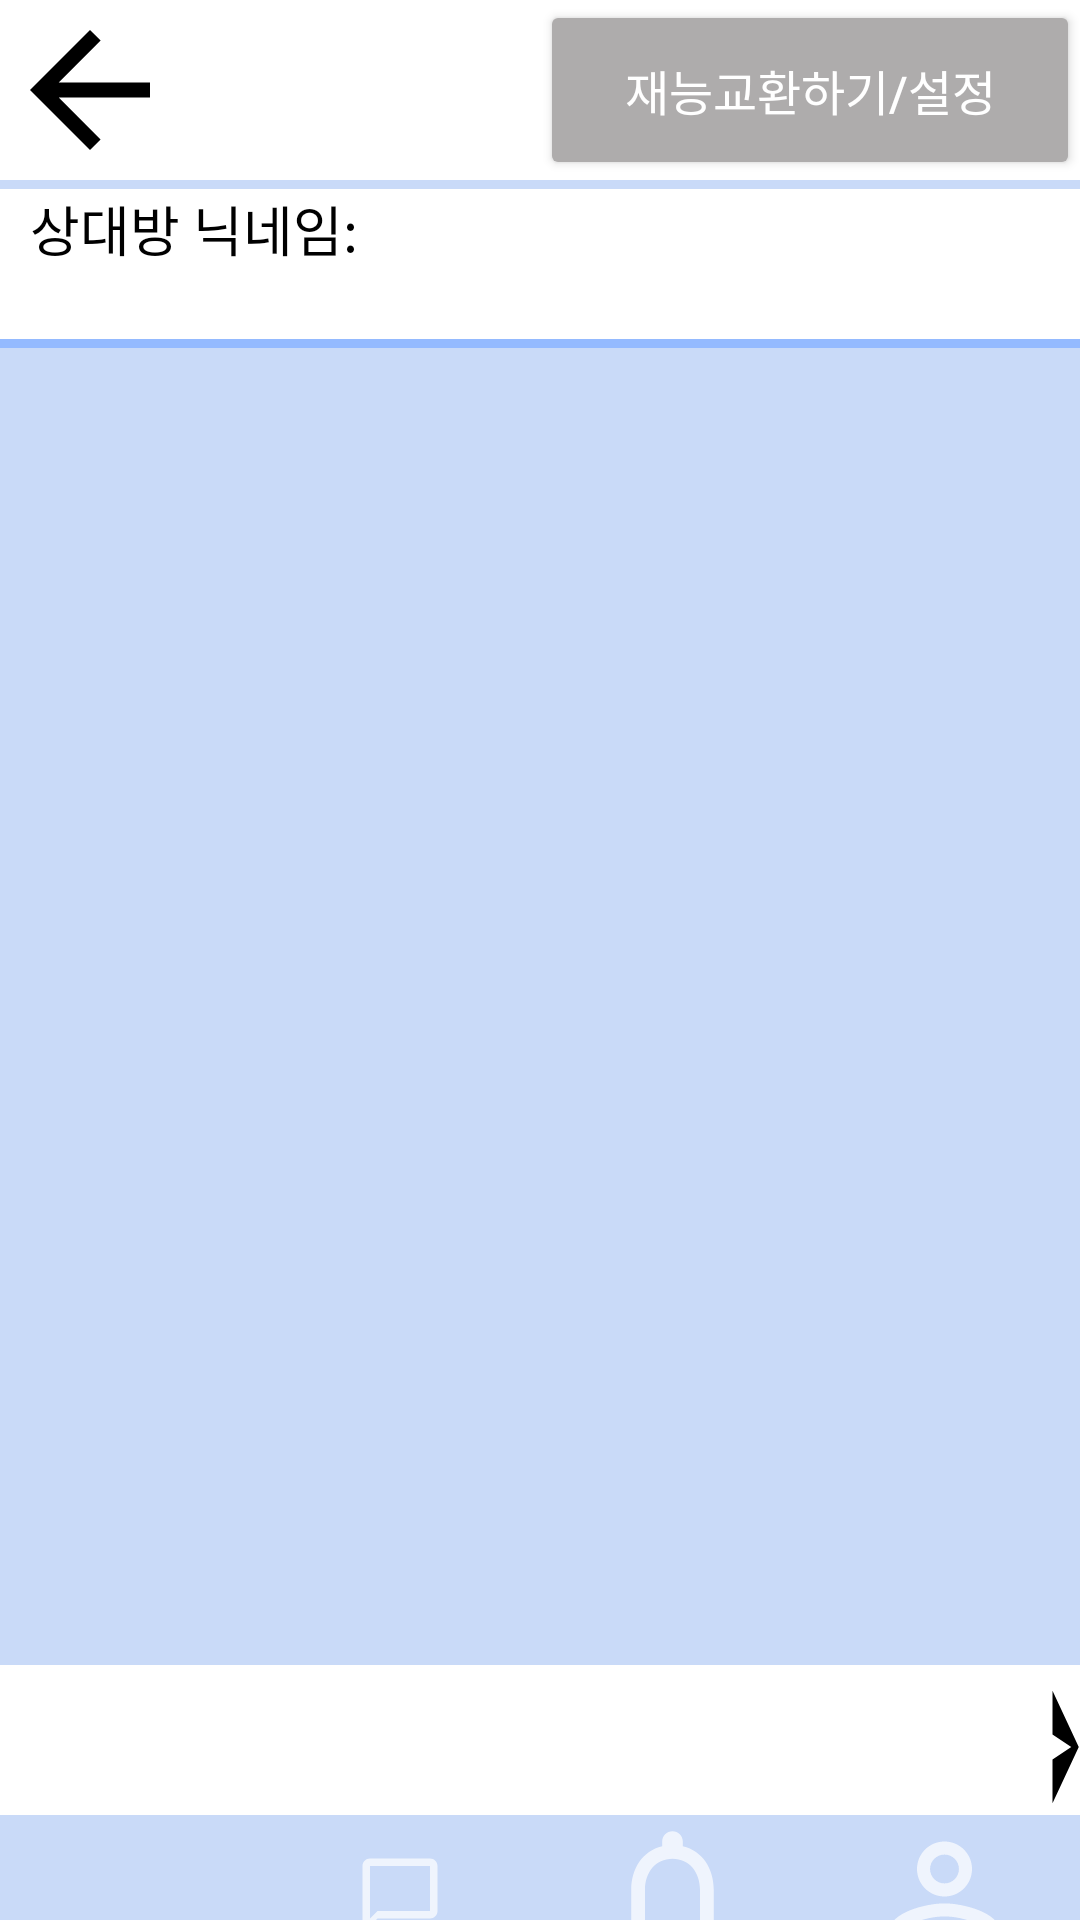

Icons on this 1080 x 1920 Android screen, each with the point to tap as (x=x, y=y):
arrow back: (x=90, y=90)
send: (x=1065, y=1747)
